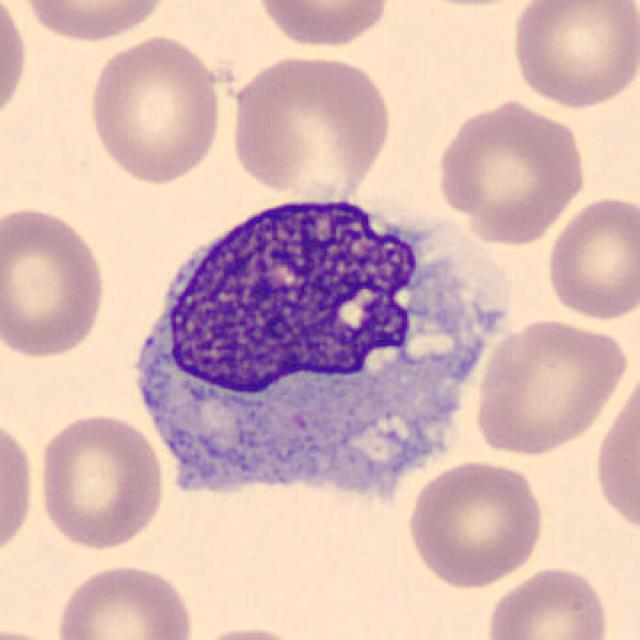Monocyte: (109, 178, 519, 522)
RBC: (224, 51, 395, 199), (432, 95, 590, 245), (471, 314, 631, 458), (84, 32, 225, 187), (403, 456, 548, 590), (34, 409, 167, 552), (0, 203, 110, 363), (507, 0, 638, 111), (542, 192, 638, 323), (51, 560, 197, 640), (480, 562, 613, 640), (590, 360, 638, 544), (252, 0, 393, 51), (18, 0, 172, 44), (0, 411, 39, 562), (0, 0, 32, 134), (183, 622, 313, 640)
